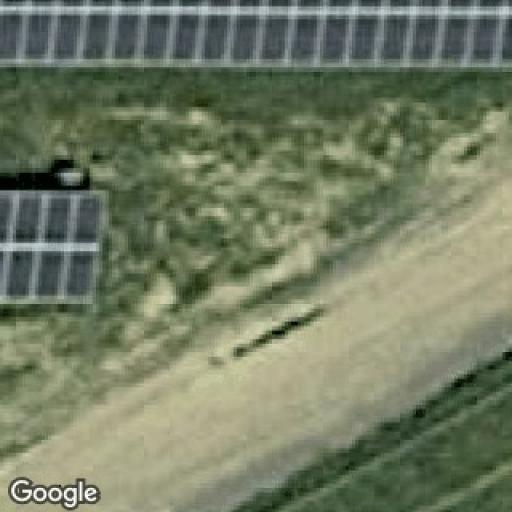solar-panel: (0, 0, 512, 62), (0, 188, 104, 306)
